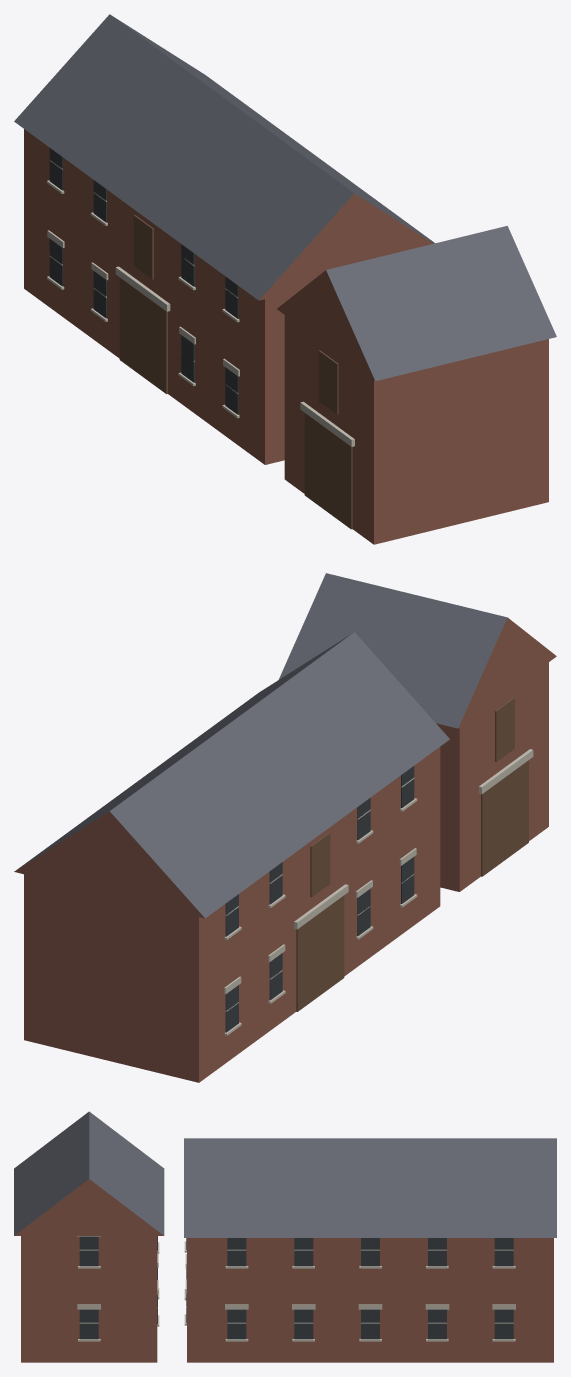
File: house_2101_prairie_coach_house__draft_1904.glb
3 views of the same model, one above another, from view 1: azimuth 30°, elevation 25°; view 2: azimuth 150°, elevation 25°; view 3: azimuth 270°, elevation 25° (orthographic). The views are drawn at different scales.
Parts seen in each view (by area): view 1: house_2101_prairie_coach_house__draft_1904; view 2: house_2101_prairie_coach_house__draft_1904; view 3: house_2101_prairie_coach_house__draft_1904.
Boxes of the visible parts, x1,y1,x2,y2 form: house_2101_prairie_coach_house__draft_1904: (14,14,556,544); house_2101_prairie_coach_house__draft_1904: (14,573,556,1082); house_2101_prairie_coach_house__draft_1904: (14,1111,556,1362).
Bounding box in the file's own units: 7.1 × 8.93 × 22.92.
